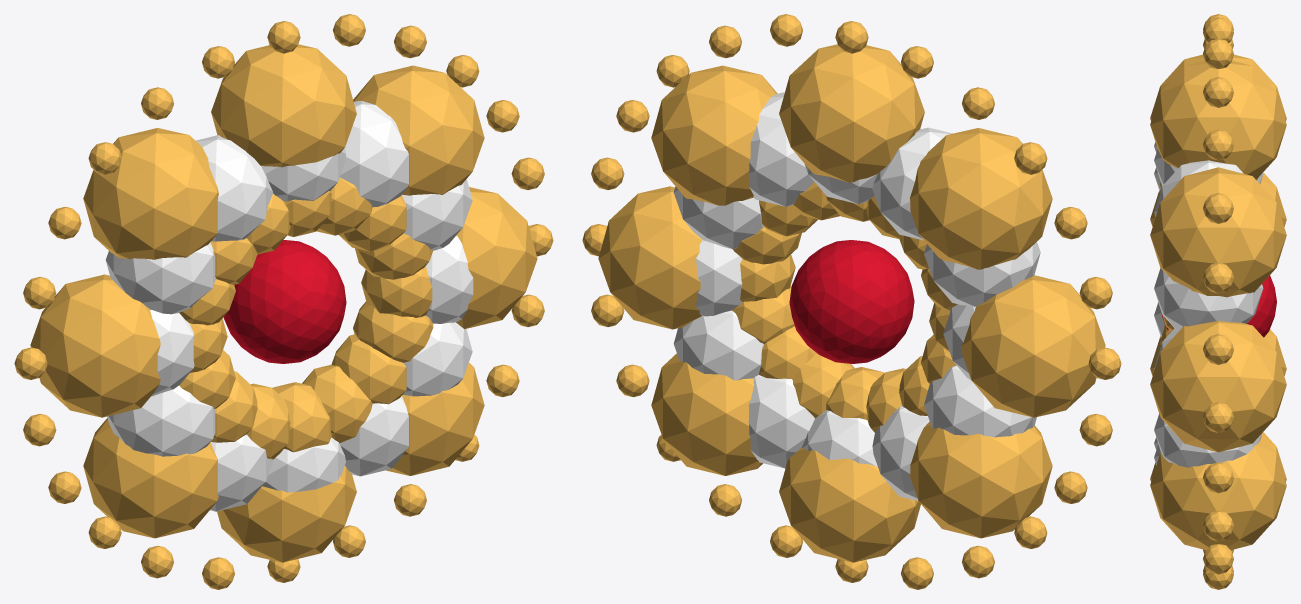
The model's file is mandala_radial.glb.
3 renders of one model, left to right at view 1: azimuth 30°, elevation 25°; view 2: azimuth 150°, elevation 25°; view 3: azimuth 270°, elevation 25°, orthographic. The views are drawn at different scales.
Visible parts, largest first — view 1: world; view 2: world; view 3: world.
Boxes of the visible parts, <box> form: world: <box>14,14,553,589</box>; world: <box>582,14,1121,589</box>; world: <box>1150,14,1286,589</box>.
Bounding box in the file's own units: 0.0296 × 0.0296 × 0.007.
1 material, 1 textured.
